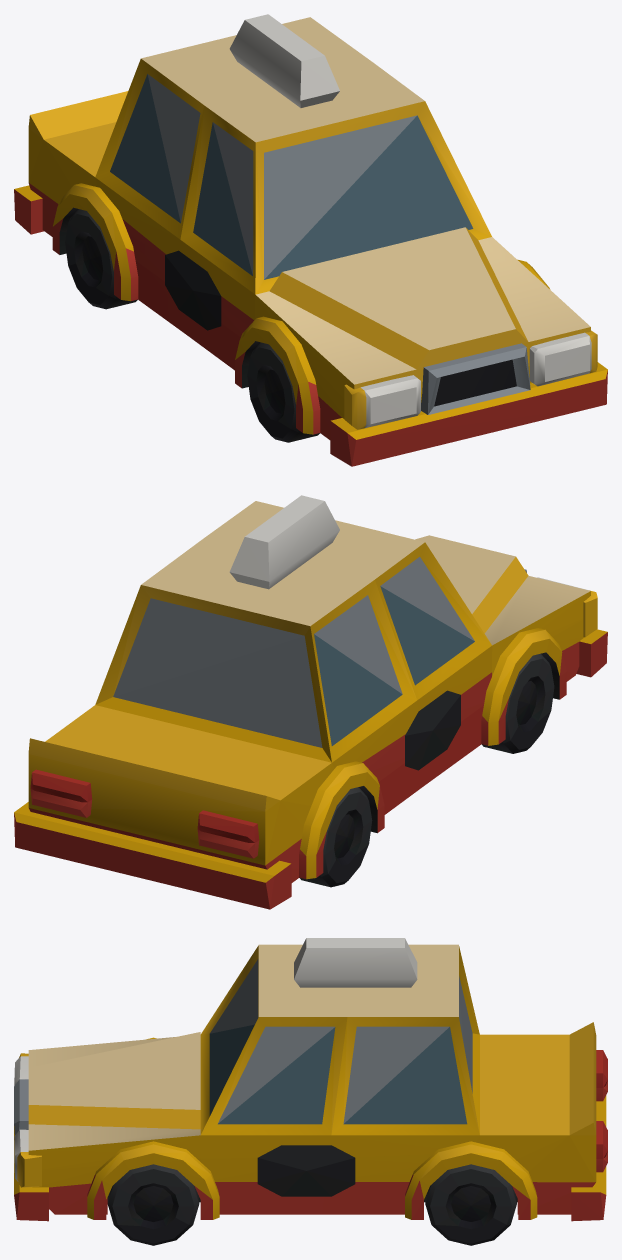
File: taxi.high.46a80e6f.glb
3 views of the same model, one above another, from view 1: azimuth 30°, elevation 25°; view 2: azimuth 150°, elevation 25°; view 3: azimuth 270°, elevation 25° (orthographic). The views are drawn at different scales.
Parts seen in each view (by area): view 1: taxi; view 2: taxi; view 3: taxi.
Part boxes in pixels (x1,y1,x2,y2): taxi: [14, 14, 607, 466]; taxi: [14, 495, 607, 909]; taxi: [14, 938, 607, 1245].
Bounding box in the file's own units: 2.19 × 2.27 × 4.9.
